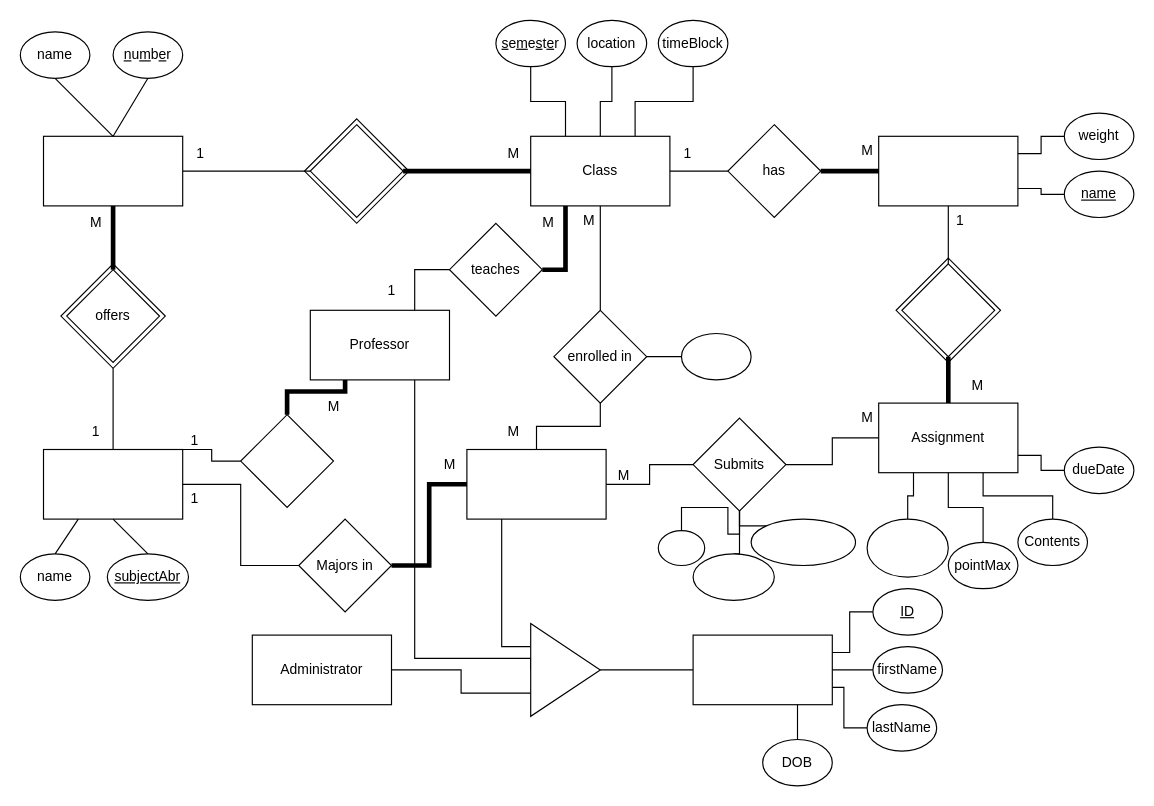
Some shapes in this 1154 by 806 pixel diagram are drawn without their labels. Each missing label, with the centre of its shape:
"Assignment Categories" belongs at point (948, 170).
"belongs to" belongs at point (948, 310).
"Course" belongs at point (112, 170).
"Department" belongs at point (112, 483).
"Grade" belongs at point (715, 356).
"n a m e" belongs at point (907, 547).
"offering of" belongs at point (356, 170).
"score" belongs at point (681, 548).
"Students" belongs at point (536, 483).
"submitContents" belongs at point (802, 542).
"submitTime" belongs at point (733, 576).
"User" belongs at point (762, 669).
"works in" belongs at point (287, 460).
